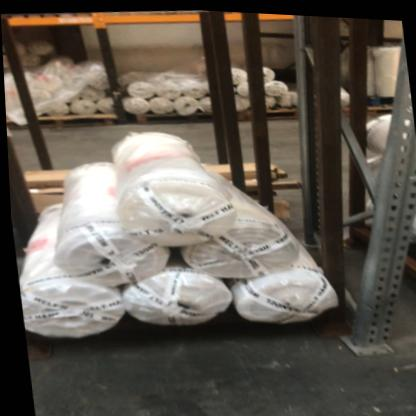vertical_damage: (335, 312, 407, 364)
